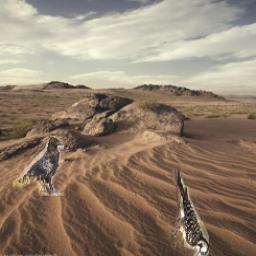Crow: (14, 137, 65, 197)
Woodpecker: (171, 167, 209, 256)
